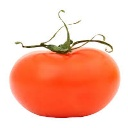tomato: (10, 46, 120, 117)
